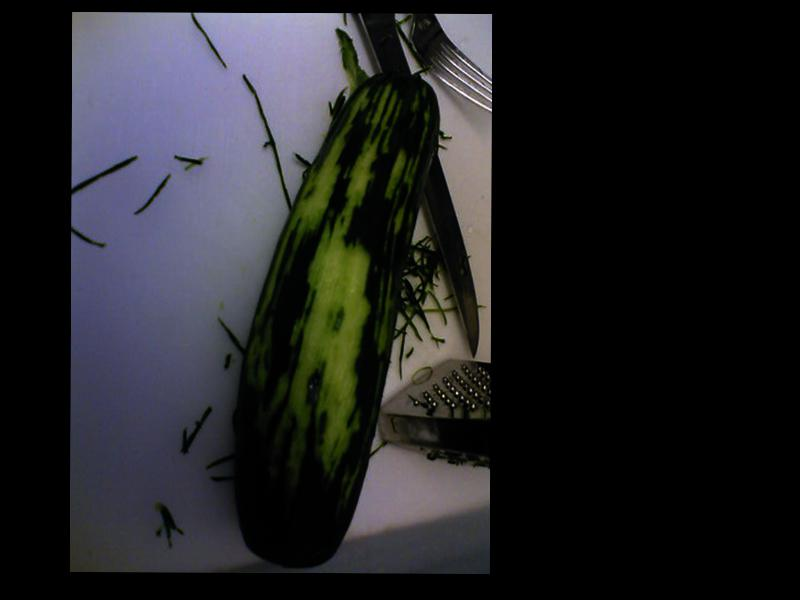Cucumber: (232, 69, 441, 568)
